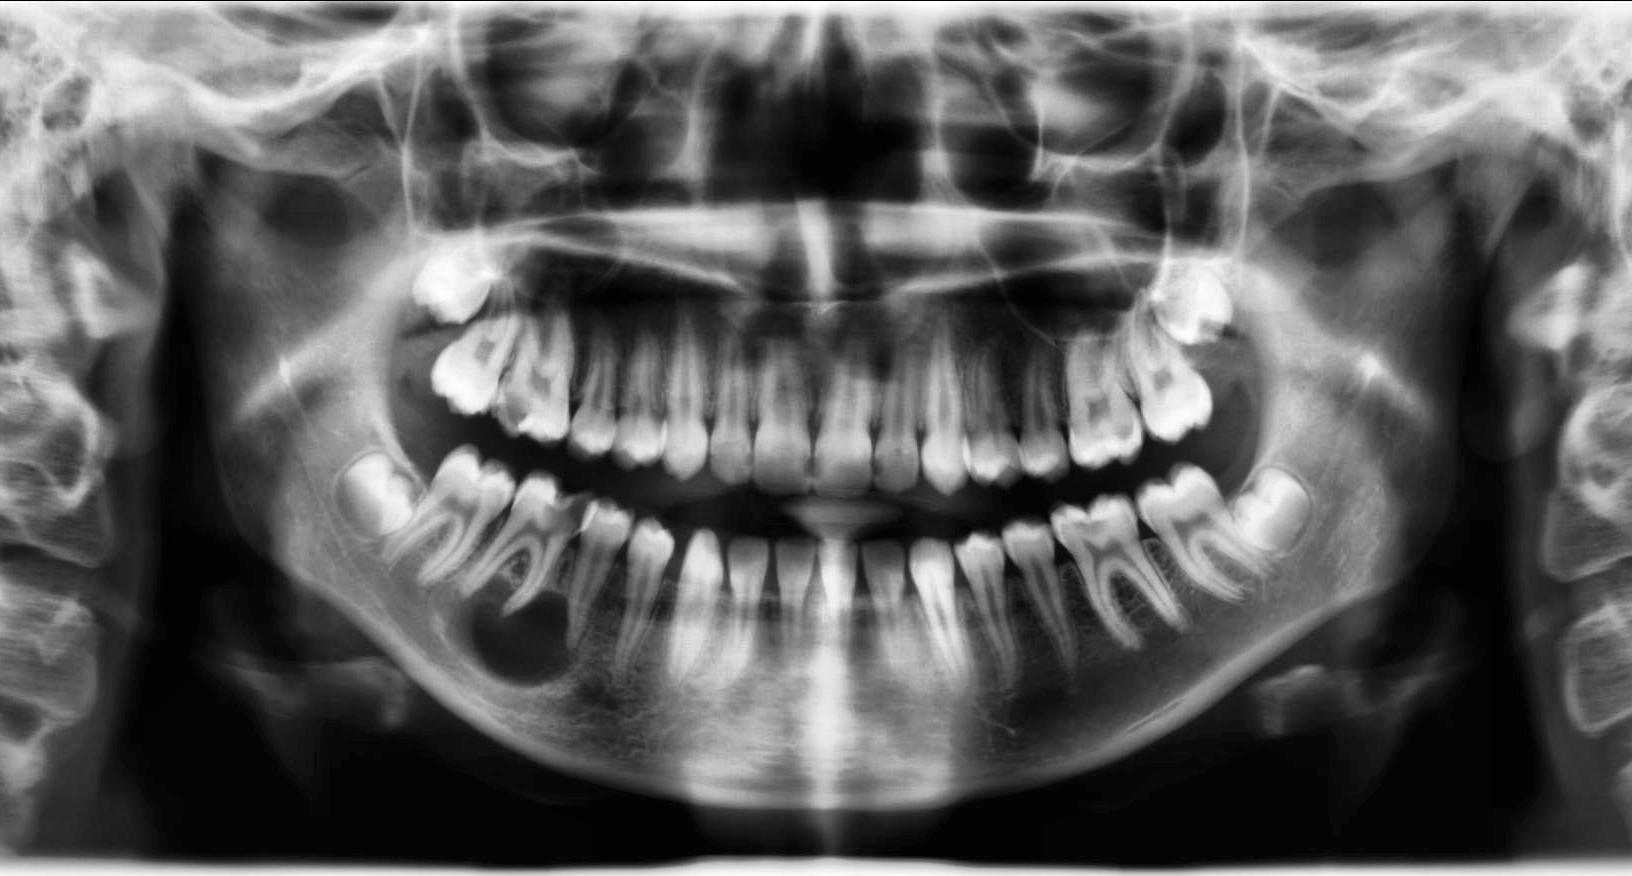radikuler: (426, 571, 597, 691)
